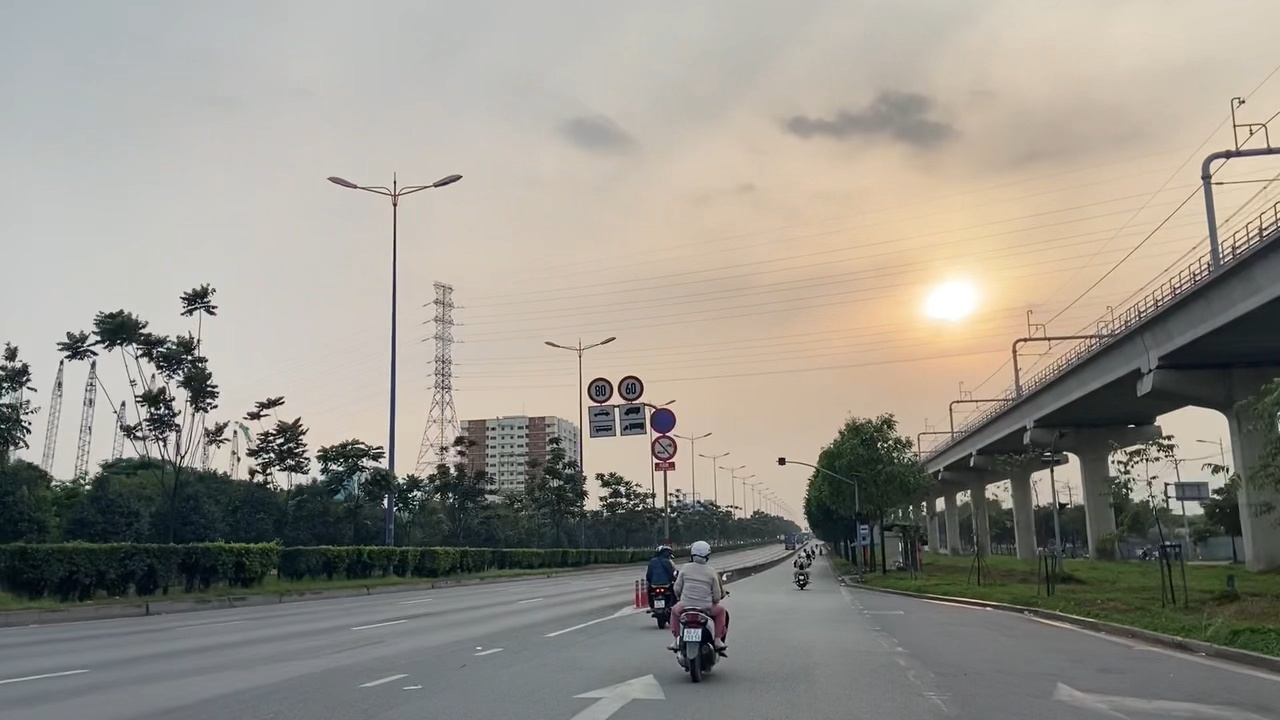gioi_han_60km: (617, 375, 645, 403)
gioi_han_80km: (586, 377, 614, 404)
